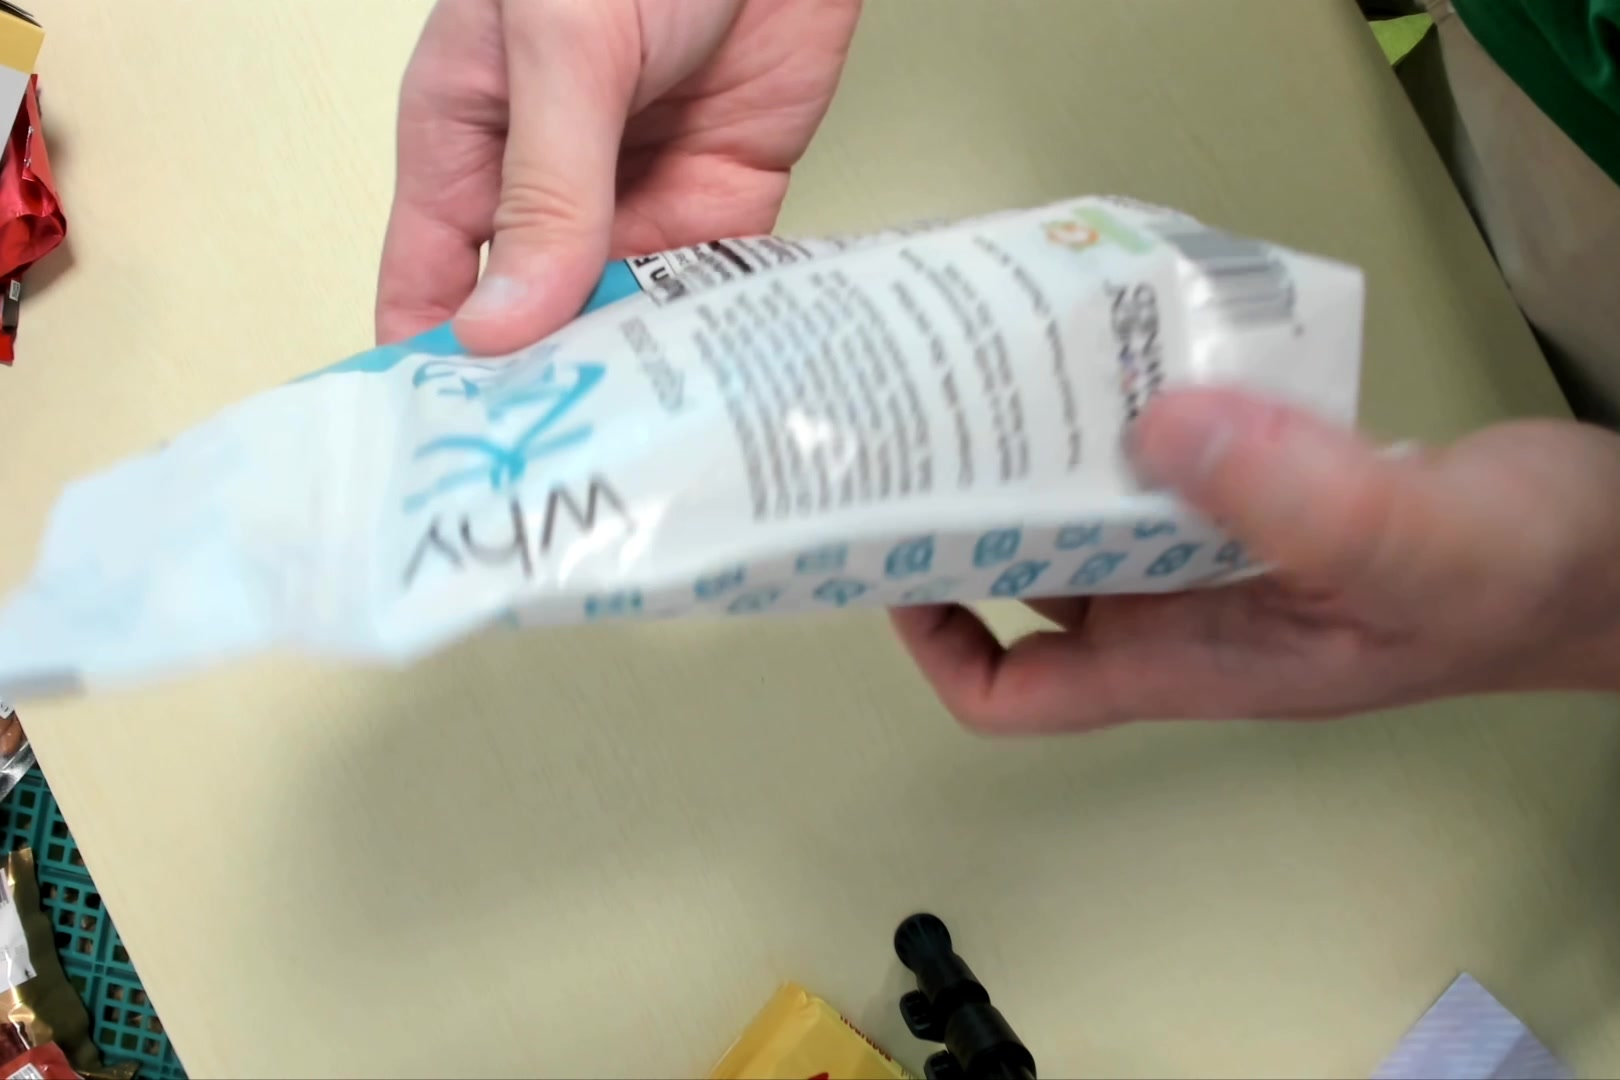SweetsChocolatesOthers_100-199g_NonHalal_NonHealthy: (8, 204, 1381, 667)
